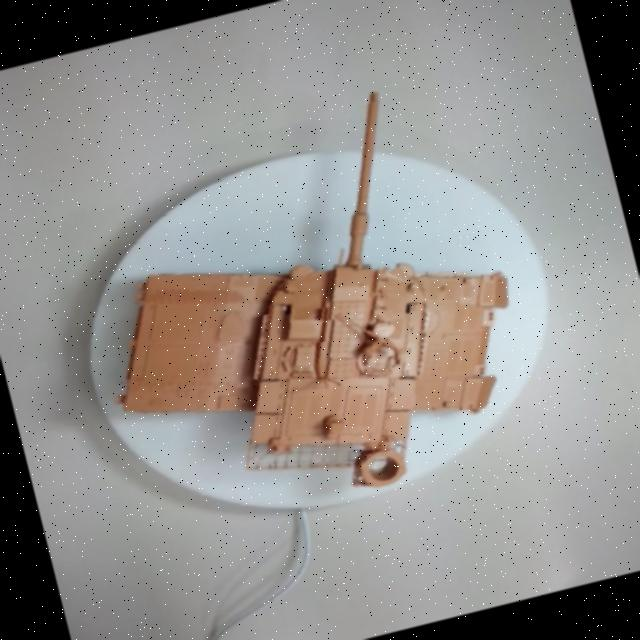korea tank: (55, 26, 575, 540)
